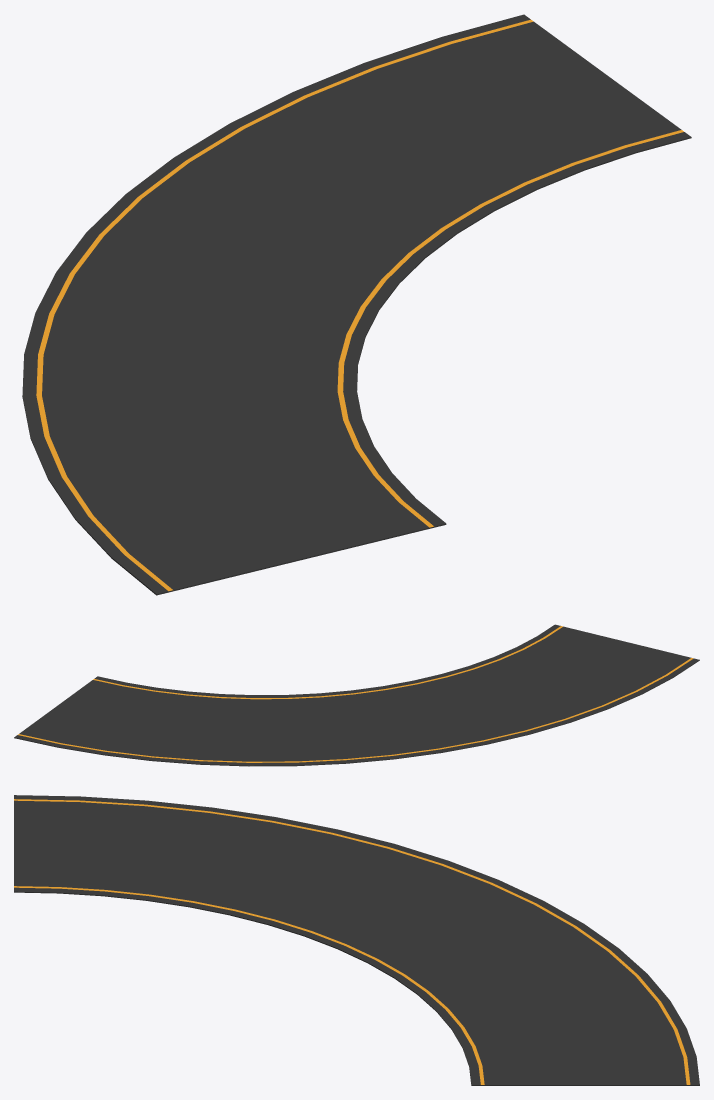
The model's file is SM_Racetrack_Plain_Turn_40x40m.fbx.
The picture shows the model from 3 angles, top to bottom: view 1: azimuth 30°, elevation 25°; view 2: azimuth 150°, elevation 25°; view 3: azimuth 270°, elevation 25°; orthographic projection. The views are drawn at different scales.
Visible parts, largest first — view 1: SM_Racetrack_Plain_Turn_40x40m; view 2: SM_Racetrack_Plain_Turn_40x40m; view 3: SM_Racetrack_Plain_Turn_40x40m.
Part boxes in pixels (bbox=[...]): SM_Racetrack_Plain_Turn_40x40m: bbox=[22, 14, 691, 595]; SM_Racetrack_Plain_Turn_40x40m: bbox=[14, 624, 699, 766]; SM_Racetrack_Plain_Turn_40x40m: bbox=[14, 795, 699, 1085].
Bounding box in the file's own units: 36 × 0.05 × 36.
